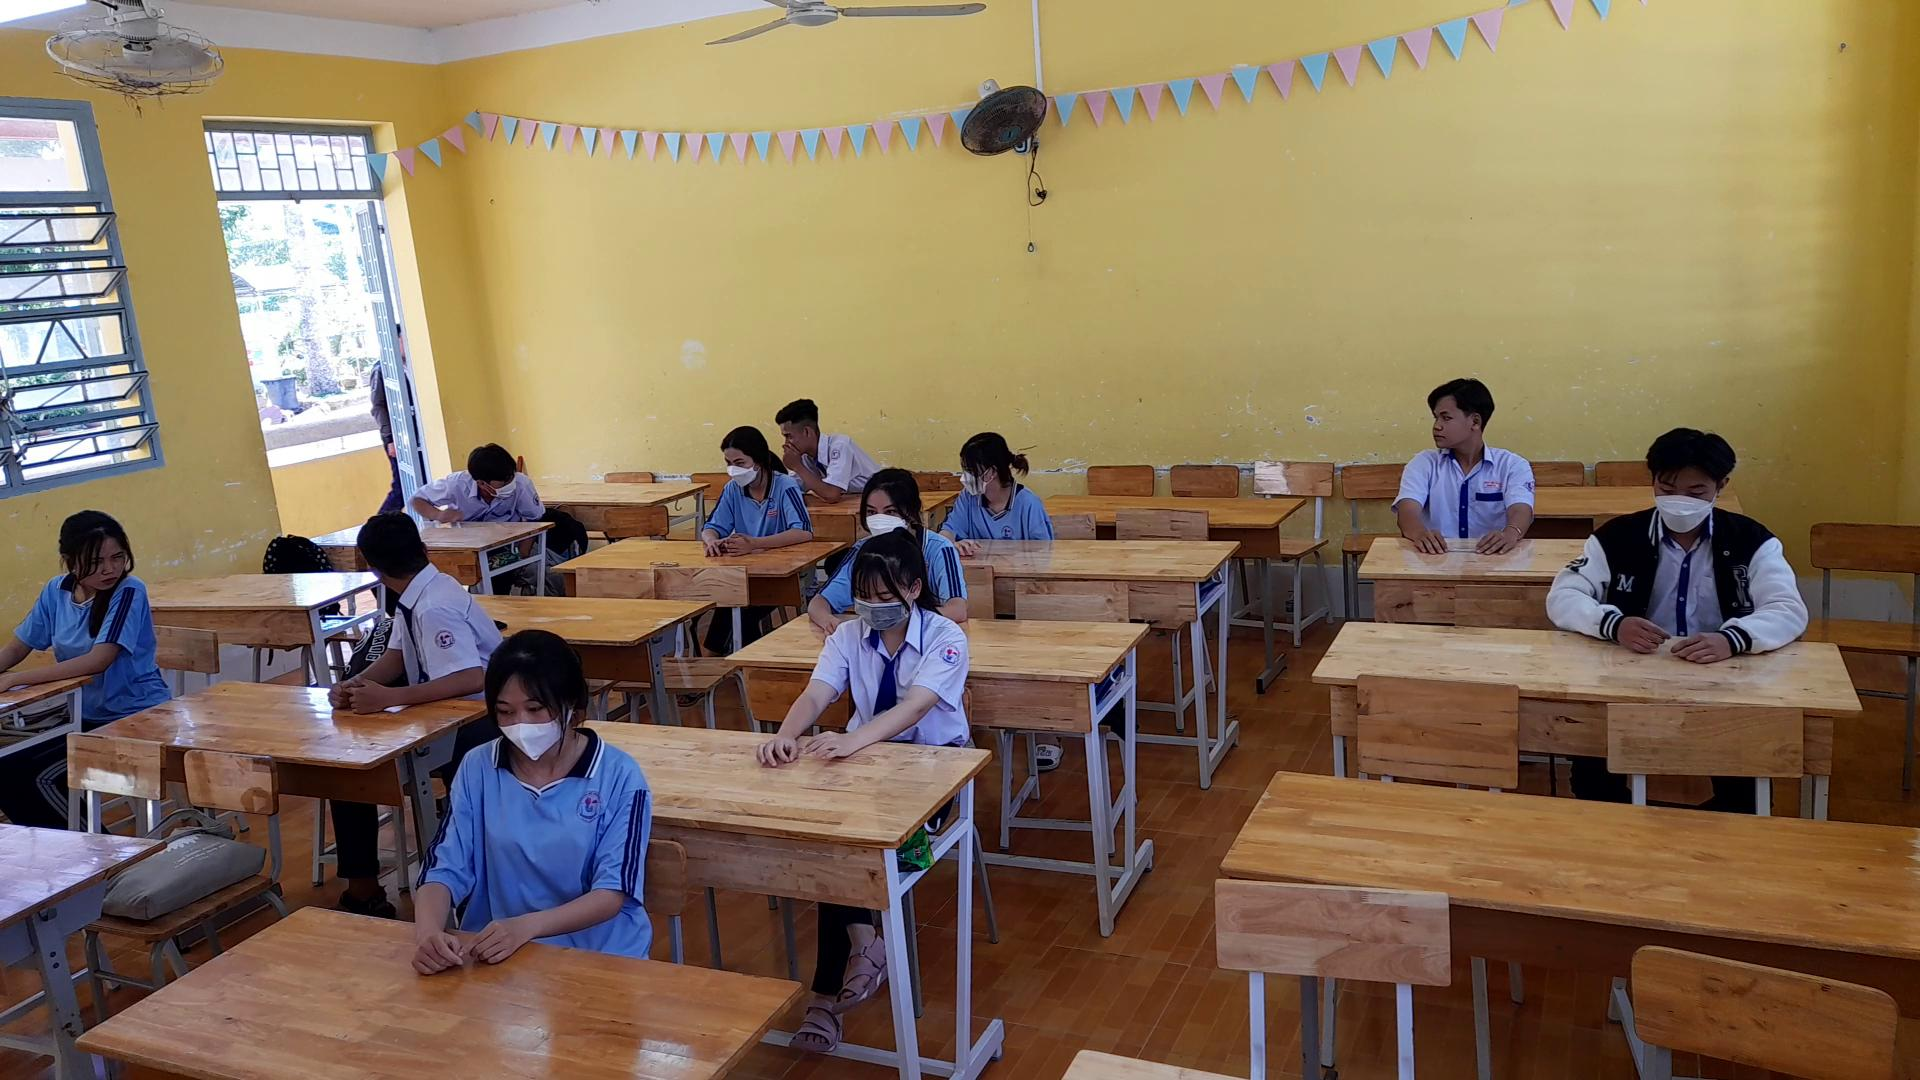Hand Under Table: (1009, 487, 1059, 551)
Look Around: (32, 502, 138, 604), (332, 501, 438, 603), (1408, 367, 1501, 459), (455, 426, 539, 508), (943, 426, 1027, 508), (770, 382, 855, 464)
Normal: (409, 630, 647, 975), (1539, 409, 1811, 662), (742, 516, 975, 770), (695, 411, 818, 567)
